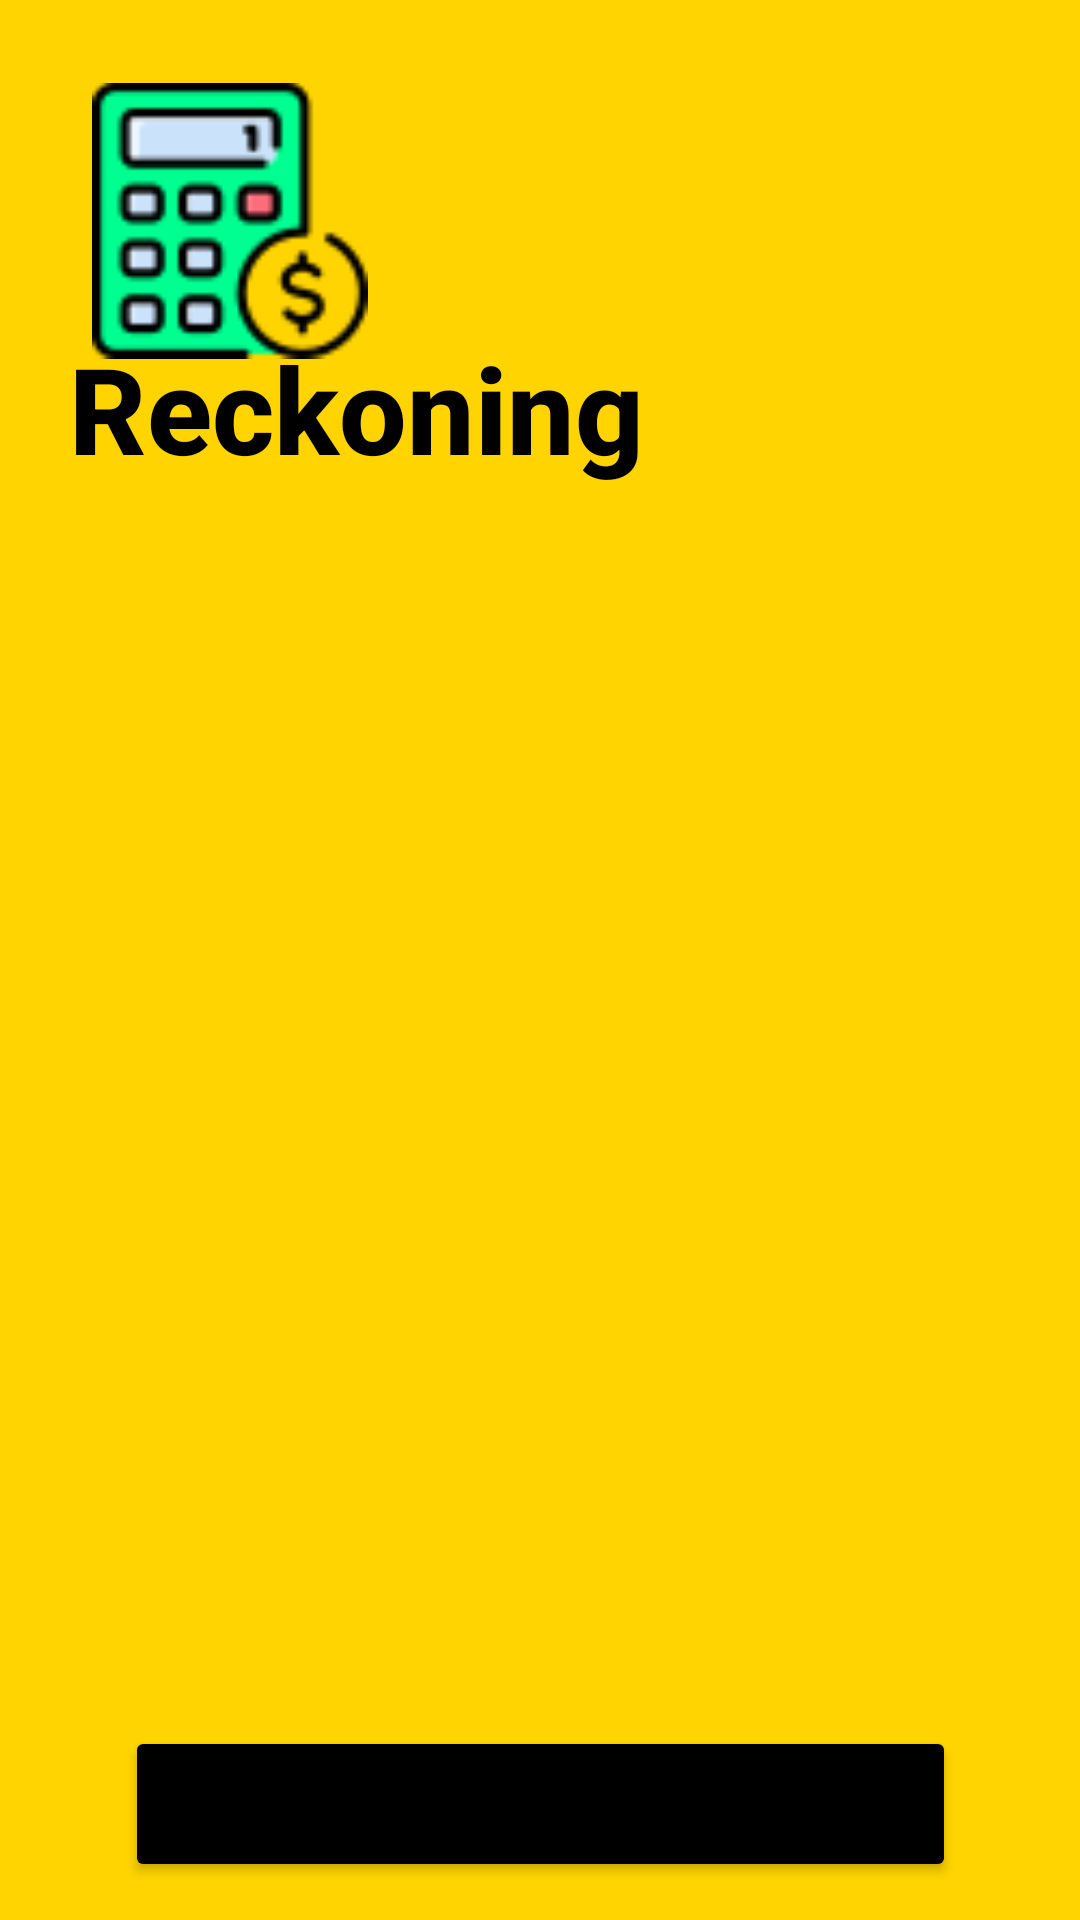

Icons on this 1080×1920 Android screen, each with its box as (x1, y1, x2, y2):
calculator: (92, 83, 368, 359)
